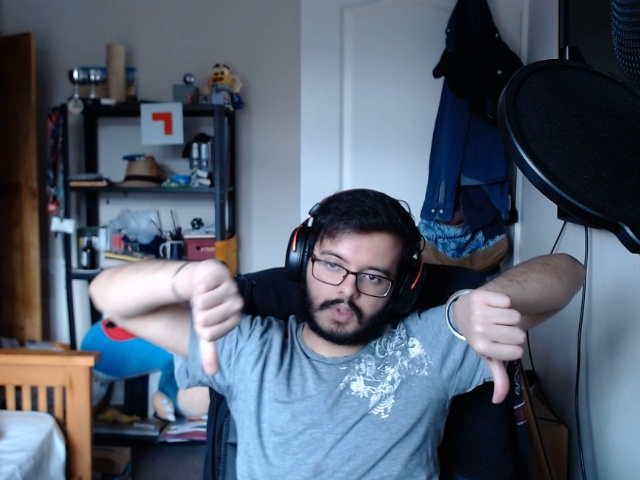Thumbs down: (452, 283, 532, 411), (181, 245, 251, 381)
